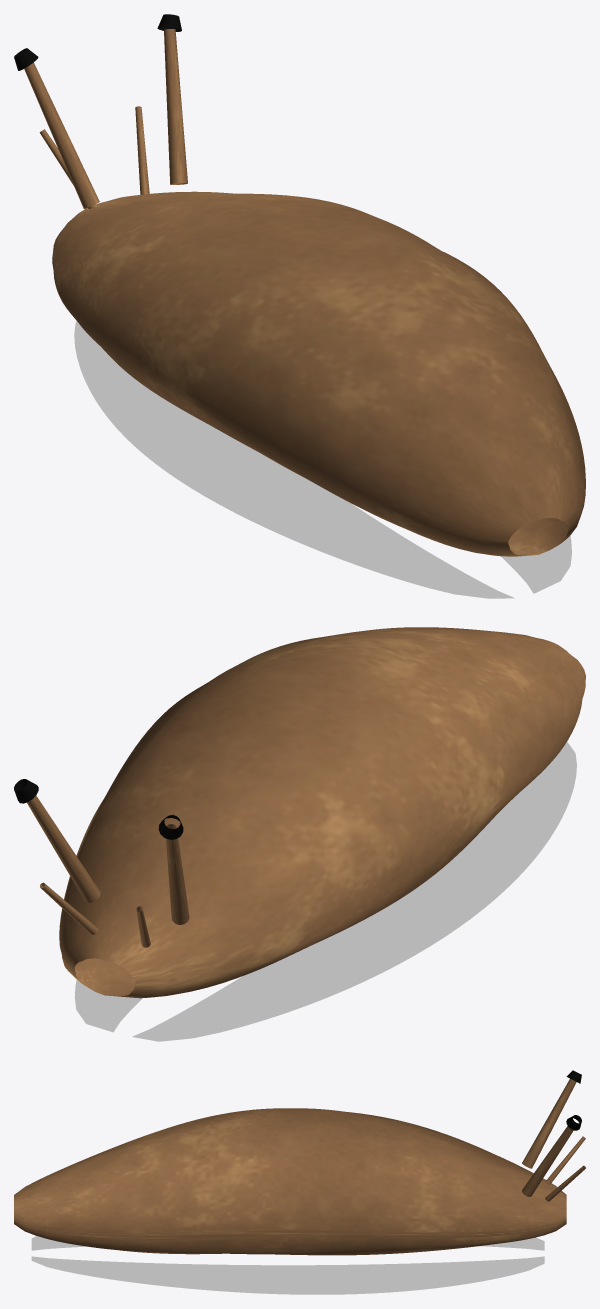
File: slug_body.obj
The picture shows the model from 3 angles, top to bottom: view 1: azimuth 30°, elevation 25°; view 2: azimuth 150°, elevation 25°; view 3: azimuth 270°, elevation 25°; orthographic projection. The views are drawn at different scales.
Visible parts, largest first — view 1: DetailedMoistSlugBody; view 2: DetailedMoistSlugBody; view 3: DetailedMoistSlugBody.
Boxes of the visible parts, x1,y1,x2,y2 form: DetailedMoistSlugBody: (14,14,585,598); DetailedMoistSlugBody: (14,627,585,1041); DetailedMoistSlugBody: (14,1070,585,1294).
Size of the model in its own units: 1.04 by 0.8005 by 2.59.
